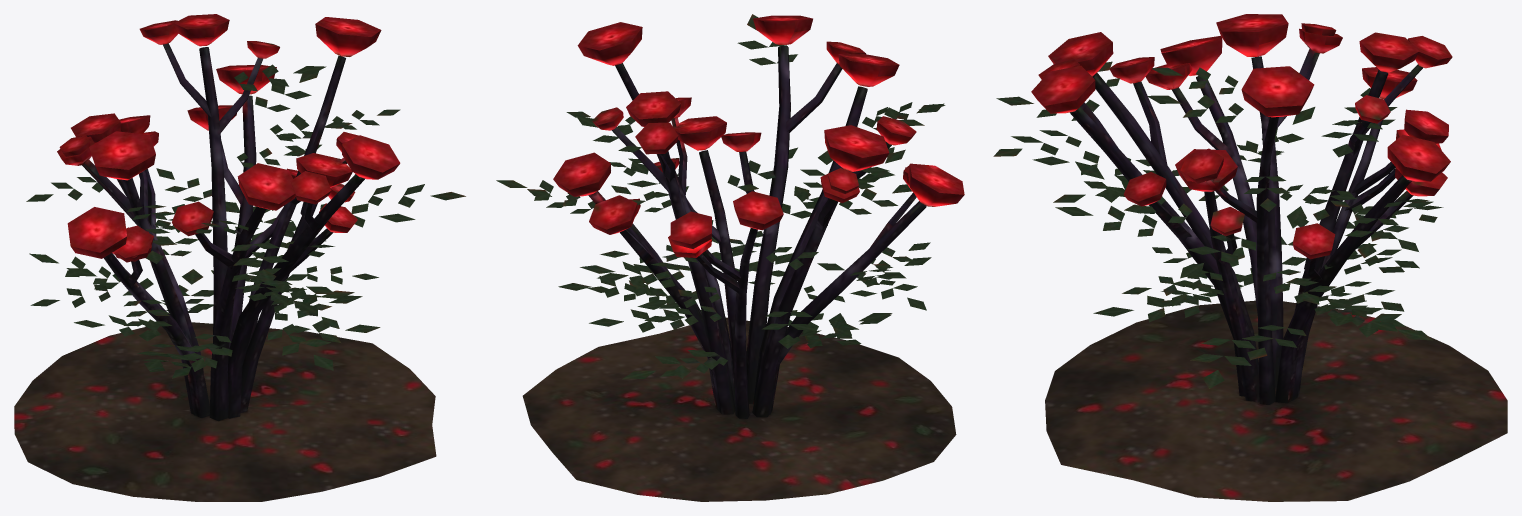
Rendered from thorn_roses.glb.
The picture shows the model from 3 angles, left to right: view 1: azimuth 30°, elevation 25°; view 2: azimuth 150°, elevation 25°; view 3: azimuth 270°, elevation 25°; orthographic projection. The views are drawn at different scales.
Visible parts, largest first — view 1: thorn_roses; view 2: thorn_roses; view 3: thorn_roses.
Boxes of the visible parts, x1,y1,x2,y2 form: thorn_roses: (14, 14, 465, 501); thorn_roses: (496, 14, 964, 501); thorn_roses: (993, 14, 1507, 501).
Size of the model in its own units: 1.11 by 0.998 by 1.19.
Materials: 1 (1 with a texture image).
